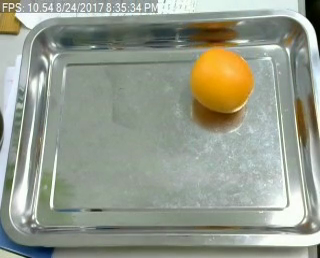Orange: (189, 47, 252, 113)
